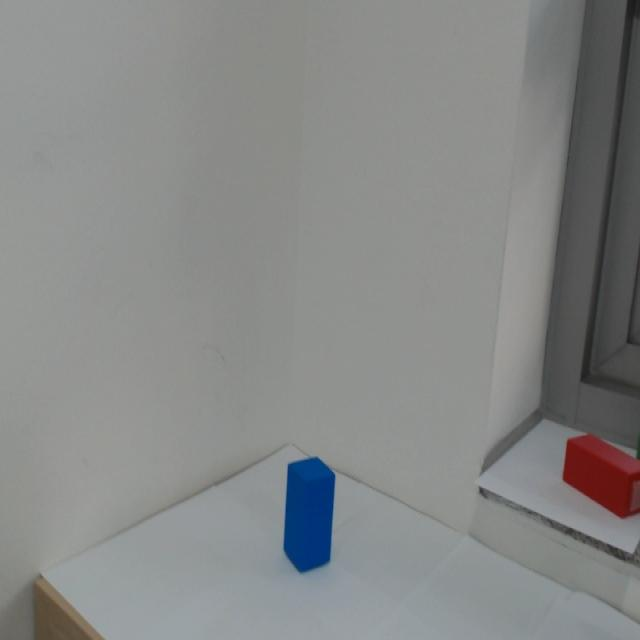cube: (280, 453, 347, 609)
